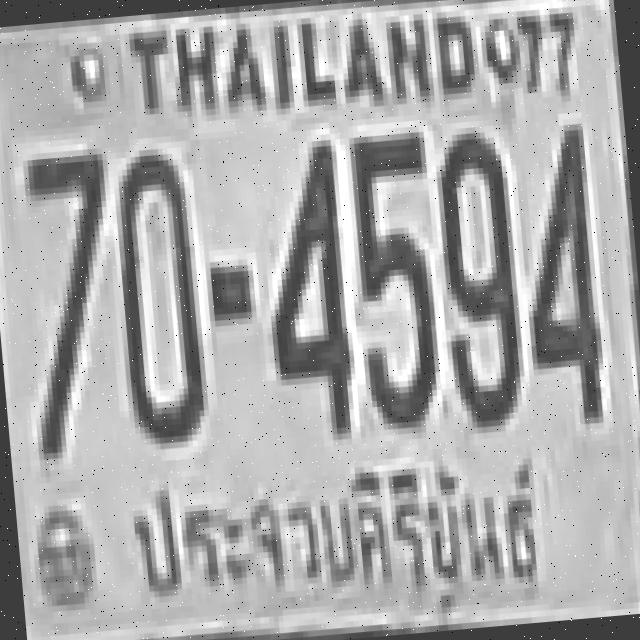0: (106, 146, 206, 440), (430, 125, 511, 312)
4: (250, 134, 355, 433), (510, 120, 604, 418)
5: (343, 126, 432, 302)
7: (24, 148, 114, 330), (24, 148, 112, 312)
9: (428, 133, 524, 426)
PrachuapKhiriKhan: (118, 443, 554, 628)
